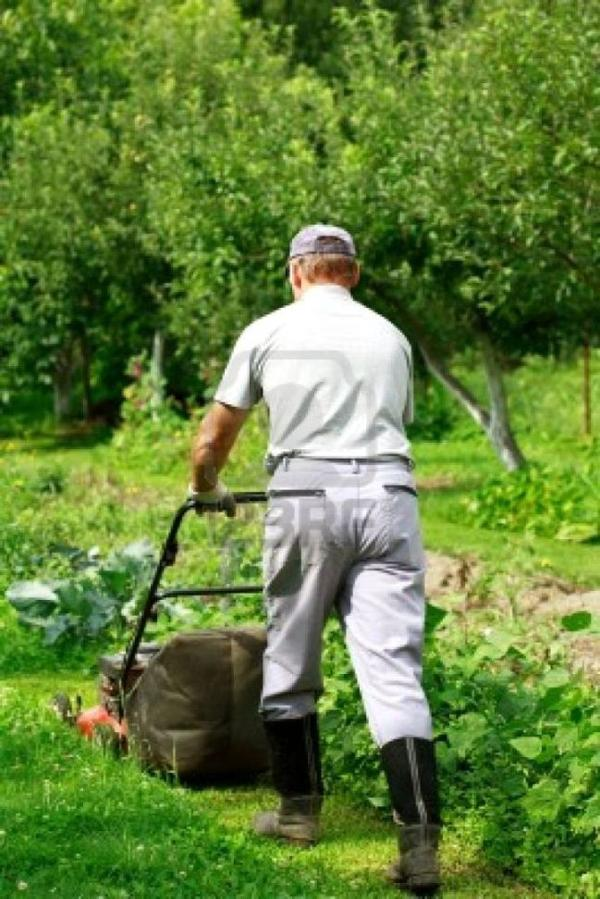person: (190, 225, 441, 892)
